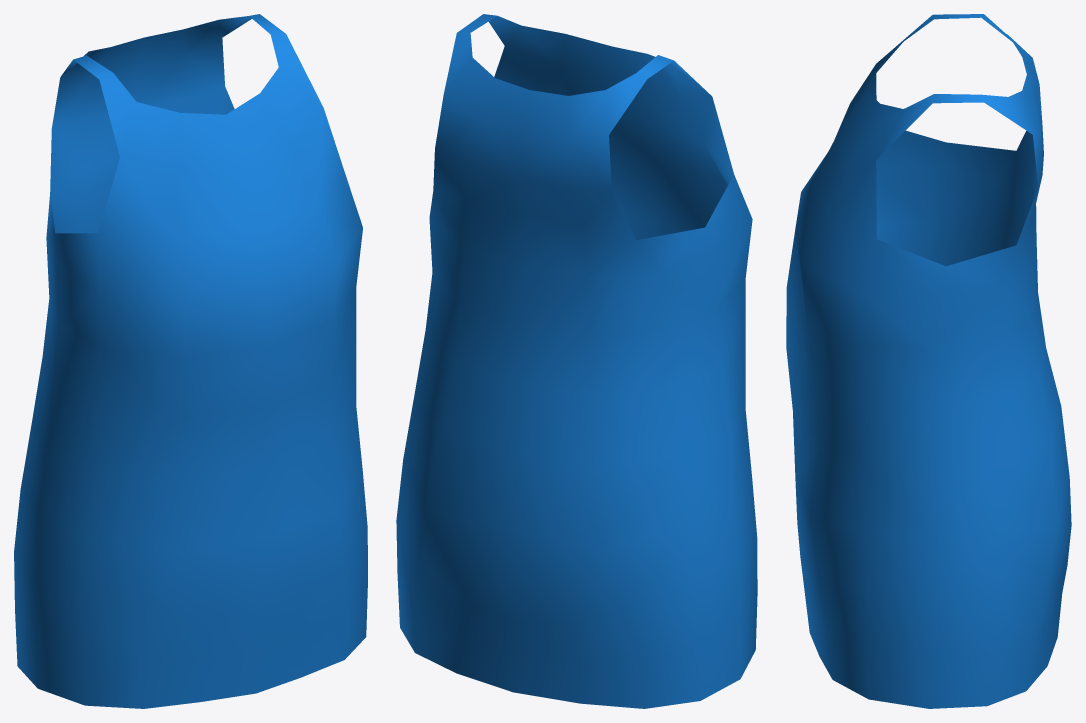
File: Outerwear_Blue_005.glb
3 views of the same model, side by side, from view 1: azimuth 30°, elevation 25°; view 2: azimuth 150°, elevation 25°; view 3: azimuth 270°, elevation 25° (orthographic). The views are drawn at different scales.
Visible parts, largest first — view 1: Outerwear_Blue_005; view 2: Outerwear_Blue_005; view 3: Outerwear_Blue_005.
Part boxes in pixels (<box>): Outerwear_Blue_005: <box>14,14,367,708</box>; Outerwear_Blue_005: <box>396,14,757,708</box>; Outerwear_Blue_005: <box>786,14,1071,708</box>.
Size of the model in its own units: 0.4681 by 0.8466 by 0.3763.
1 material, 1 textured.
